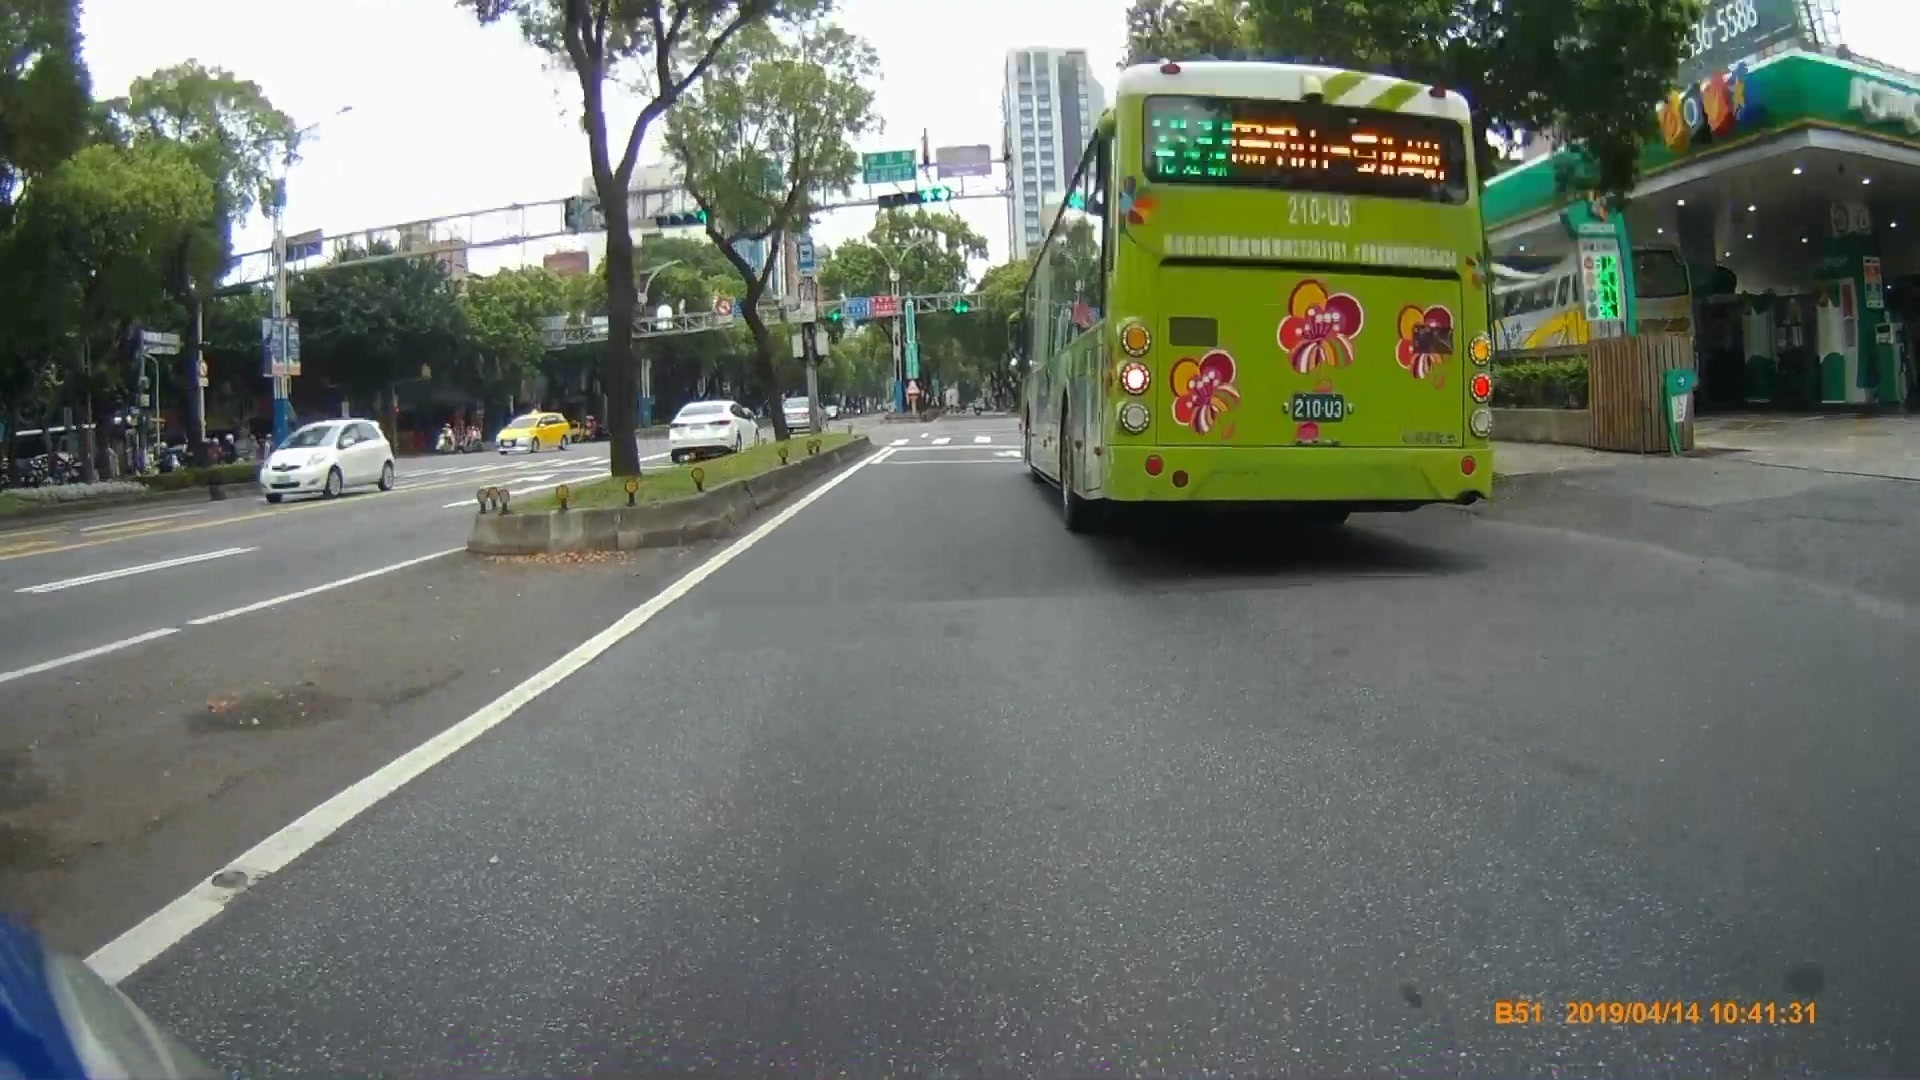License_plate: (1290, 392, 1347, 420)
